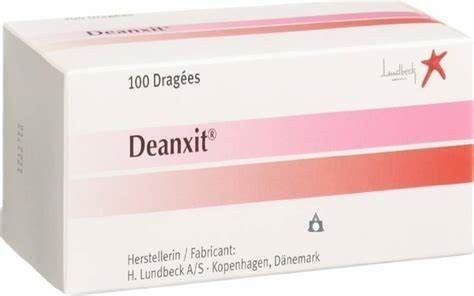Medicine: (4, 17, 474, 294)
